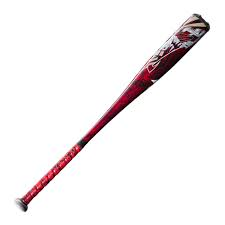baseball bat: (14, 12, 210, 212)
